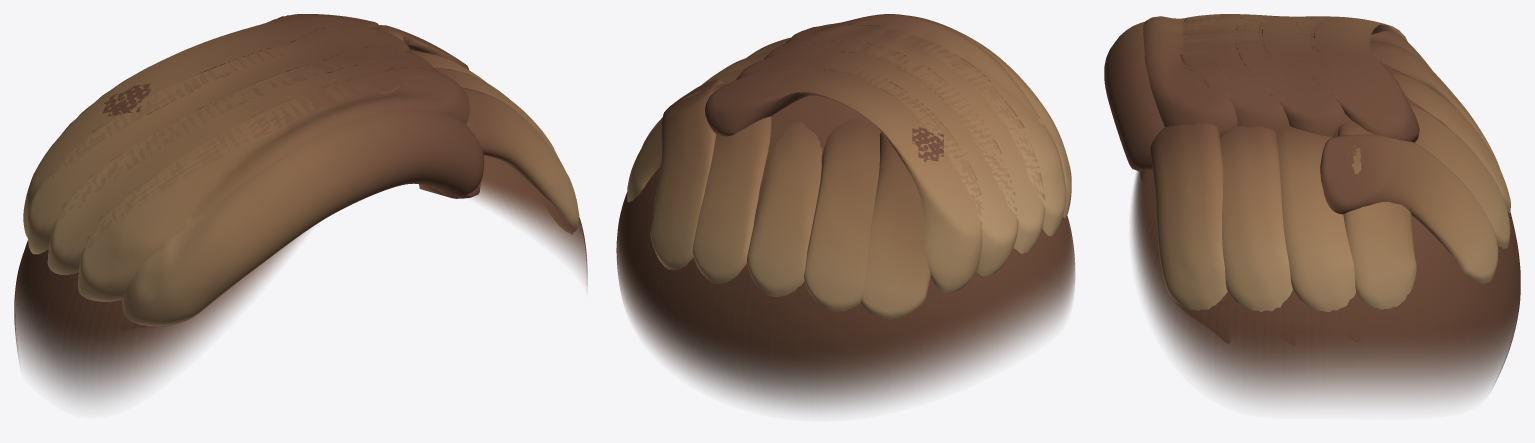
The model's file is Ombre-d5e730e4d5aa253-hair.glb.
The picture shows the model from 3 angles, left to right: view 1: azimuth 30°, elevation 25°; view 2: azimuth 150°, elevation 25°; view 3: azimuth 270°, elevation 25°; orthographic projection. The views are drawn at different scales.
Parts seen in each view (by area): view 1: 226 hair / Hair252 / sculpted locks.001, 226 hair / Hair252 / gentle tonal variation.001, 226 hair / Hair252 / restored153 fade coverage.001; view 2: 226 hair / Hair252 / sculpted locks.001, 226 hair / Hair252 / restored153 fade coverage.001, 226 hair / Hair252 / gentle tonal variation.001; view 3: 226 hair / Hair252 / sculpted locks.001, 226 hair / Hair252 / restored153 fade coverage.001, 226 hair / Hair252 / gentle tonal variation.001.
Part boxes in pixels (x1=…): 226 hair / Hair252 / sculpted locks.001: x1=23, y1=14, x2=559, y2=301; 226 hair / Hair252 / gentle tonal variation.001: x1=122, y1=87, x2=579, y2=326; 226 hair / Hair252 / restored153 fade coverage.001: x1=14, y1=155, x2=587, y2=403; 226 hair / Hair252 / sculpted locks.001: x1=627, y1=14, x2=1066, y2=319; 226 hair / Hair252 / restored153 fade coverage.001: x1=616, y1=95, x2=1075, y2=411; 226 hair / Hair252 / gentle tonal variation.001: x1=746, y1=15, x2=1071, y2=312; 226 hair / Hair252 / sculpted locks.001: x1=1143, y1=14, x2=1510, y2=311; 226 hair / Hair252 / restored153 fade coverage.001: x1=1131, y1=61, x2=1520, y2=405; 226 hair / Hair252 / gentle tonal variation.001: x1=1104, y1=22, x2=1499, y2=310.
Bounding box in the file's own units: 0.976 × 0.6775 × 0.7562.
Materials: 3 (3 with a texture image).
